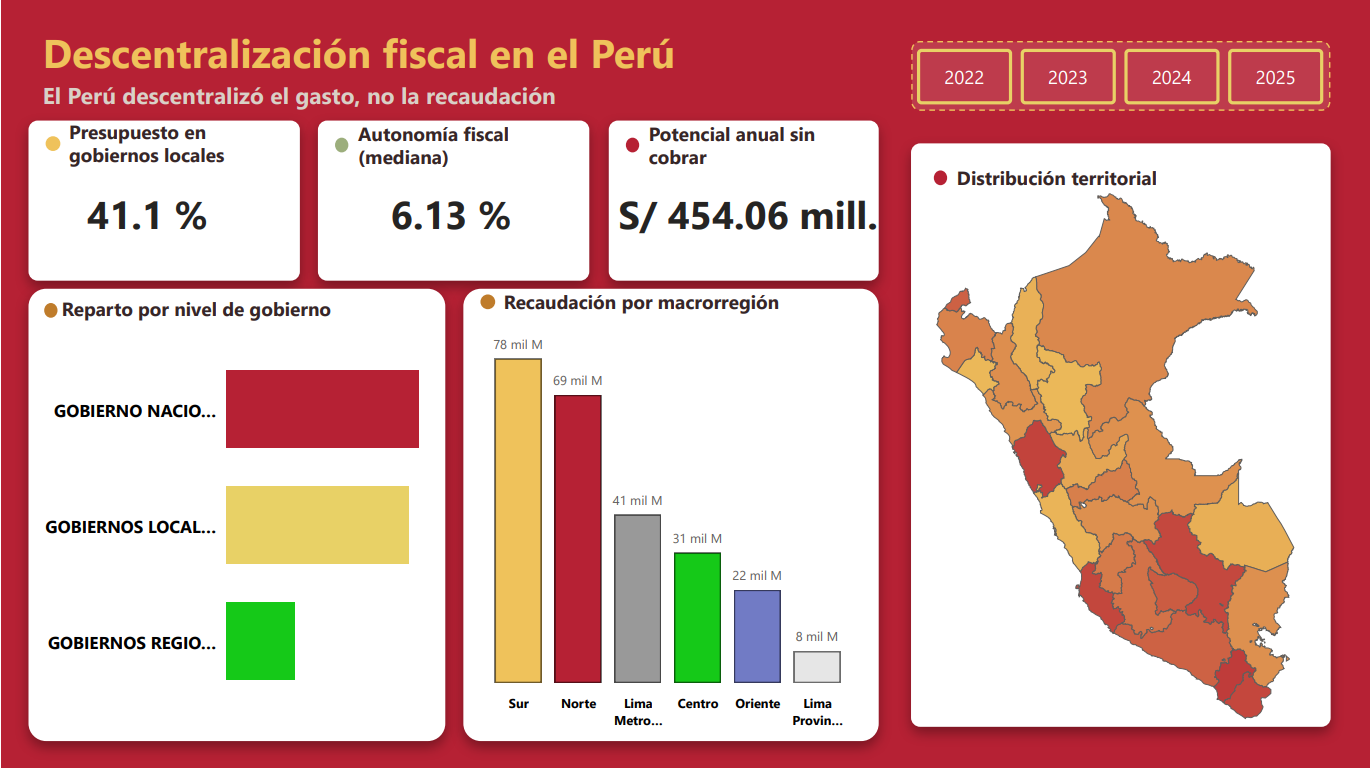

The dashboard page shown, as its layout file describes it:
{"tool":"powerbi","page":{"name":"Panorama","canvas":[1280,720],"ordinal":0},"visuals":[{"type":"advancedSlicerVisual","fields":{"Values":["DimAño.ANO"]},"box":[850.5,41,390.9,61.5],"z":0},{"type":"shapeMap","fields":{"Category":["gold UBICACION.NOMBRE_DEPARTAMENTO"],"Value":["MedidasDAX.% Canon"]},"box":[850.5,148.4,381.2,557.4],"z":1000},{"type":"columnChart","fields":{"Category":["gold REPARTO_TERRITORIAL.MACRO_REGION"],"Y":["Sum(gold REPARTO_TERRITORIAL.MONTO_RECAUDADO)"]},"box":[427.1,298,386.1,392.1],"z":2000},{"type":"barChart","fields":{"Category":["gold REPARTO_NIVEL_GOBIERNO.NIVEL_GOBIERNO_NOMBRE"],"Y":["Sum(gold REPARTO_NIVEL_GOBIERNO.MONTO_PIM)"]},"box":[24.1,289.5,389.7,400.5],"z":3000},{"type":"cardVisual","fields":{"Data":["MedidasDAX.PIM_gobierno_local"]},"box":[50.7,137.5,284.7,121.9],"z":4000},{"type":"cardVisual","fields":{"Data":["MedidasDAX.Mediana Autonomia"]},"box":[335.4,150.8,183.4,95.3],"z":5000},{"type":"cardVisual","fields":{"Data":["MedidasDAX.Potencial Promedio Anual"]},"box":[547.7,137.5,302.8,121.9],"z":6000}]}

Visuals, with their boxes in screenshot pixels (x1, y1, x2, y2), scaled from the page's 1280x720 canvas onto the 1370x768 screenshot:
advancedSlicerVisual - DimAño.ANO: <region>910, 44, 1329, 109</region>
shapeMap - gold UBICACION.NOMBRE_DEPARTAMENTO x MedidasDAX.% Canon: <region>910, 158, 1318, 753</region>
columnChart - gold REPARTO_TERRITORIAL.MACRO_REGION x Sum(gold REPARTO_TERRITORIAL.MONTO_RECAUDADO): <region>457, 318, 870, 736</region>
barChart - gold REPARTO_NIVEL_GOBIERNO.NIVEL_GOBIERNO_NOMBRE x Sum(gold REPARTO_NIVEL_GOBIERNO.MONTO_PIM): <region>26, 309, 443, 736</region>
cardVisual - MedidasDAX.PIM_gobierno_local: <region>54, 147, 359, 277</region>
cardVisual - MedidasDAX.Mediana Autonomia: <region>359, 161, 555, 263</region>
cardVisual - MedidasDAX.Potencial Promedio Anual: <region>586, 147, 910, 277</region>
